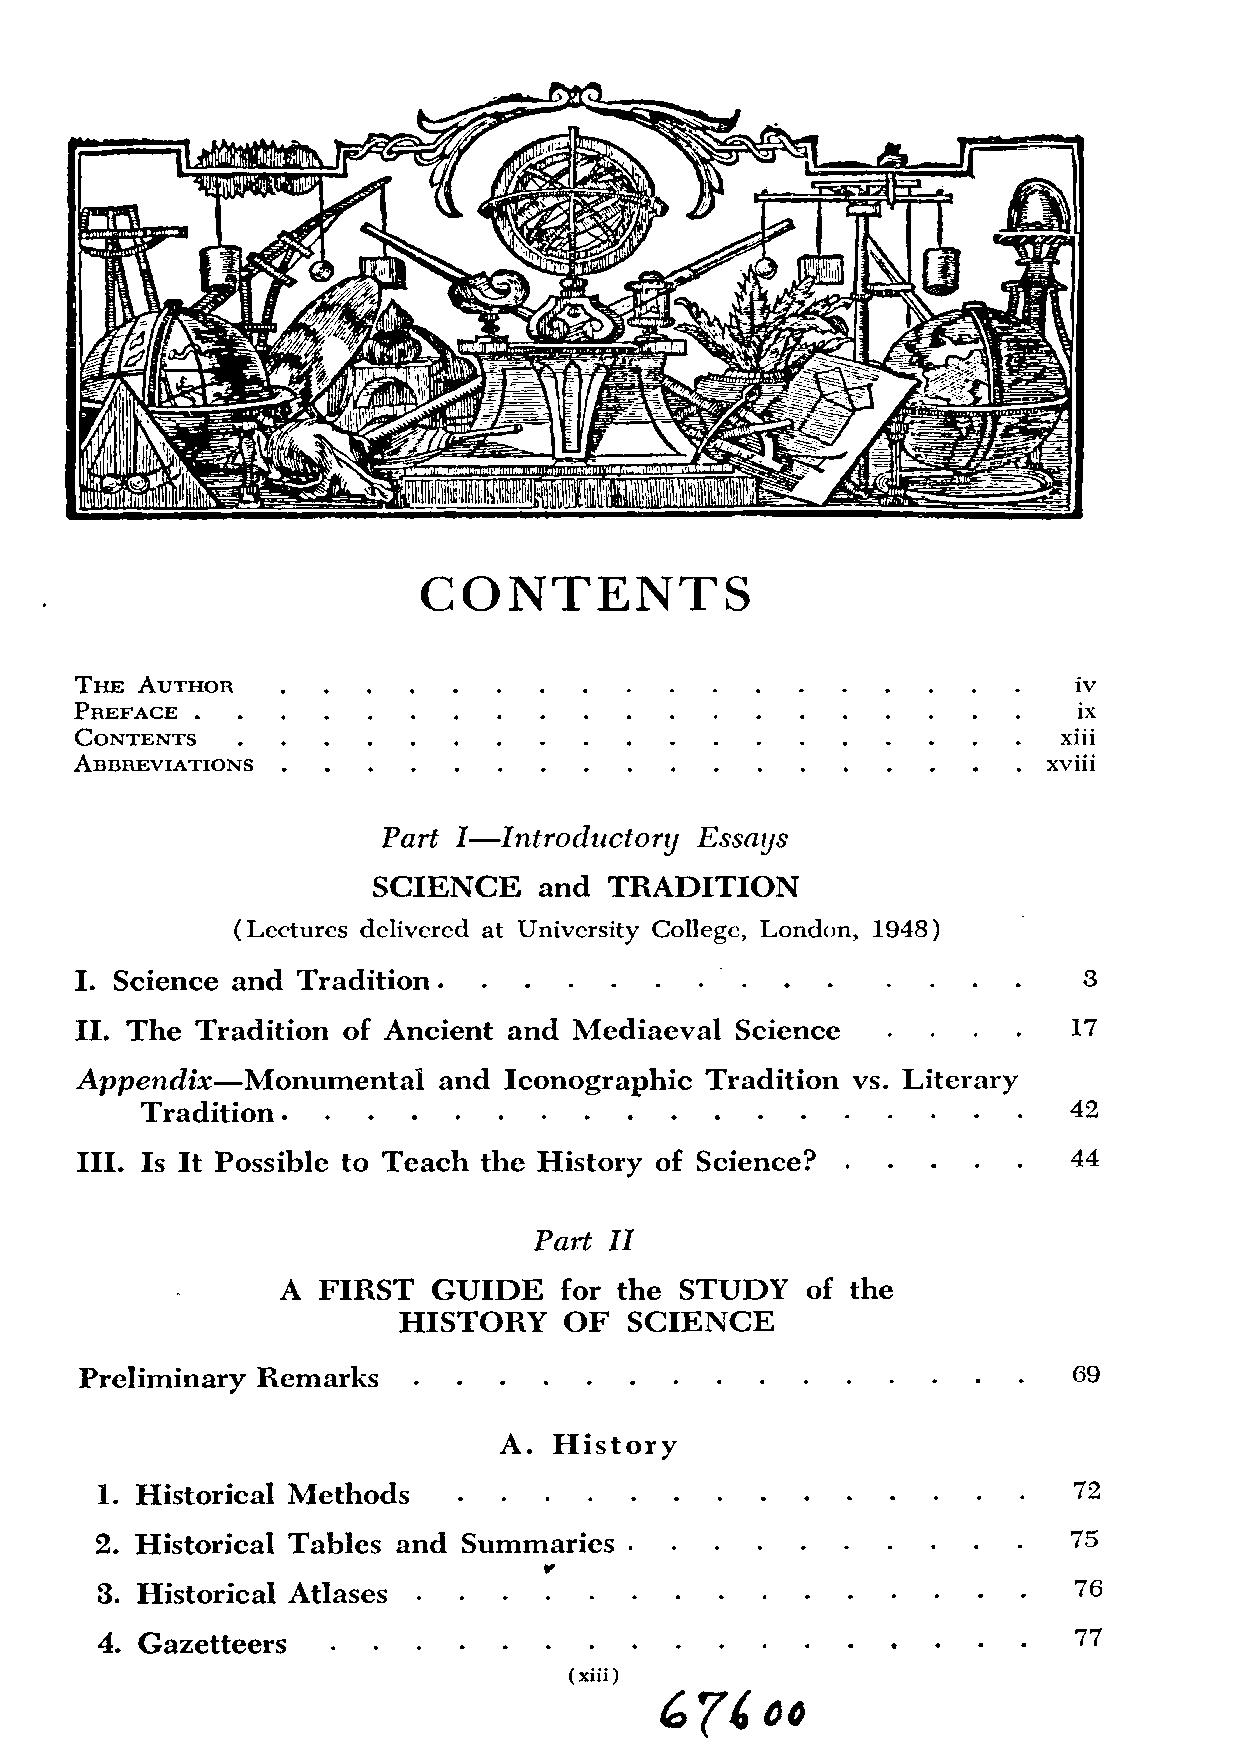TOC_chapter: (74, 1062, 1019, 1126), (72, 1143, 819, 1174), (71, 1013, 844, 1043), (90, 1529, 615, 1554), (72, 962, 432, 996), (76, 1362, 381, 1394), (91, 1478, 411, 1504), (93, 1578, 391, 1604), (97, 1631, 290, 1656), (68, 672, 234, 695), (72, 752, 254, 772), (72, 723, 201, 747), (72, 701, 178, 721)
TOC_pagenumber: (1044, 752, 1096, 772), (1068, 1091, 1102, 1121), (1068, 1011, 1100, 1037), (1070, 1525, 1100, 1551), (1074, 1577, 1107, 1600), (1070, 1147, 1100, 1172), (1074, 1476, 1104, 1500), (1075, 964, 1100, 990), (1062, 727, 1095, 746), (1070, 1363, 1100, 1384), (1074, 1627, 1104, 1647), (1074, 701, 1096, 721), (1072, 674, 1095, 692)
chapter: (232, 823, 941, 943), (274, 1225, 896, 1338), (417, 570, 752, 612), (495, 1427, 679, 1461)
